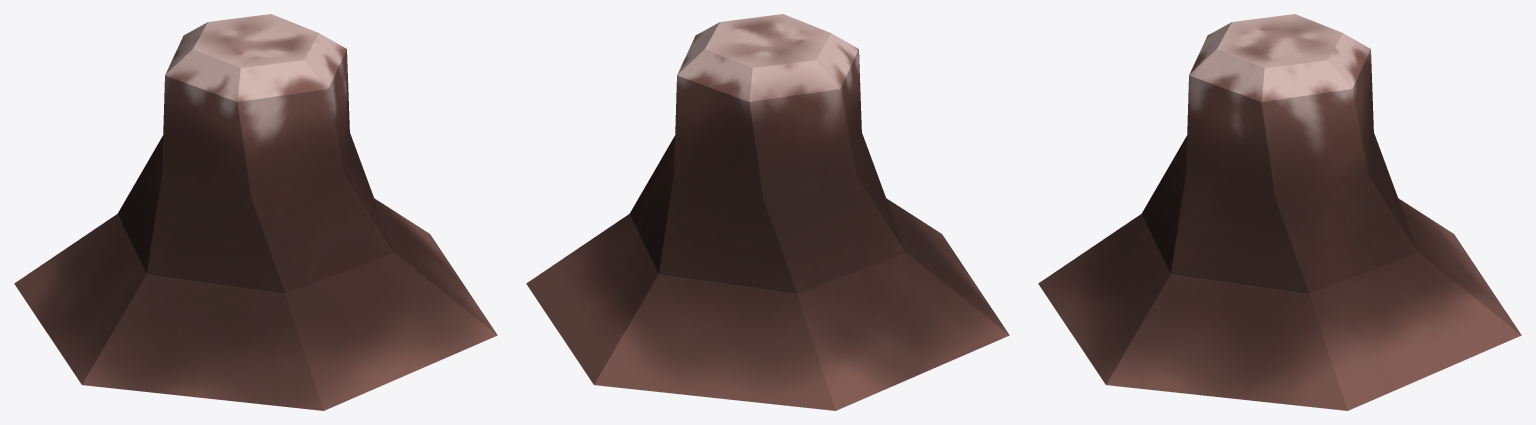
The model's file is Tree_Stump1_Model.fbx.
3 renders of one model, left to right at view 1: azimuth 30°, elevation 25°; view 2: azimuth 150°, elevation 25°; view 3: azimuth 270°, elevation 25°, orthographic.
Visible parts, largest first — view 1: Stump1_Model; view 2: Stump1_Model; view 3: Stump1_Model.
Part boxes in pixels (x1,y1,x2,y2): Stump1_Model: (14, 14, 497, 410); Stump1_Model: (526, 14, 1009, 410); Stump1_Model: (1038, 14, 1521, 410).
Size of the model in its own units: 284 by 175 by 286.
